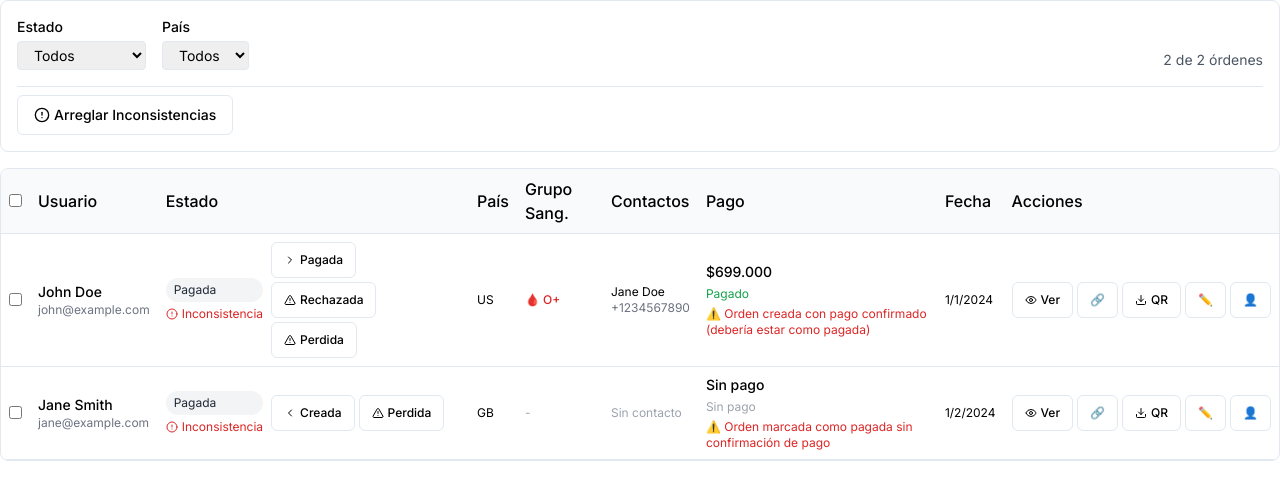
Test: OrdersTable › filters orders by country
Get the second filter dropdown (country filter)
Select "US" in the 2nd dropdown showing "Todos": (206,56) [162,41,249,70]
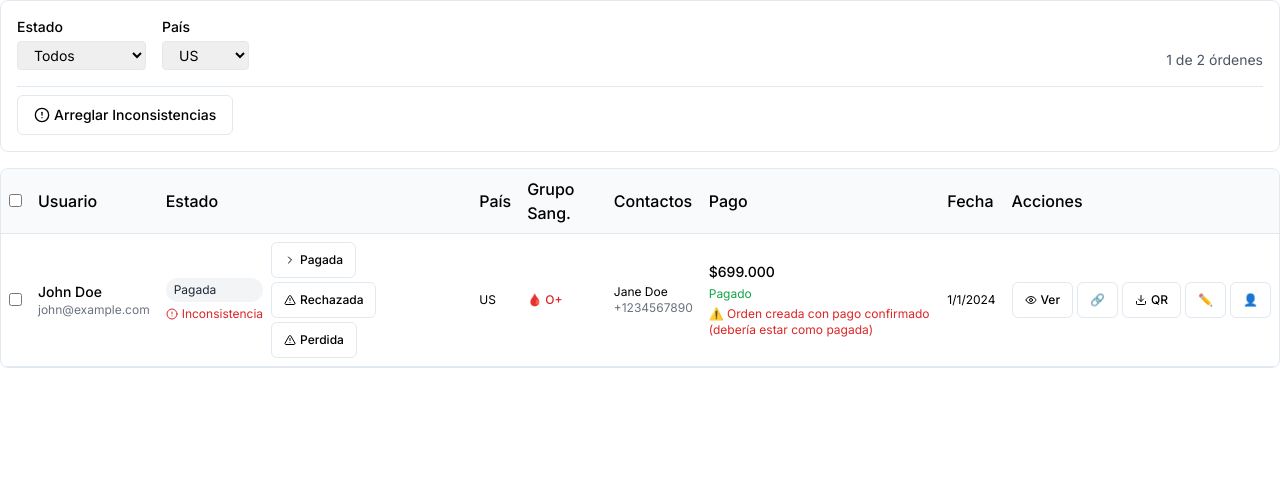
Check: the text "john@example.com" is shown 2 times
Check: the text "jane@example.com" is gone
